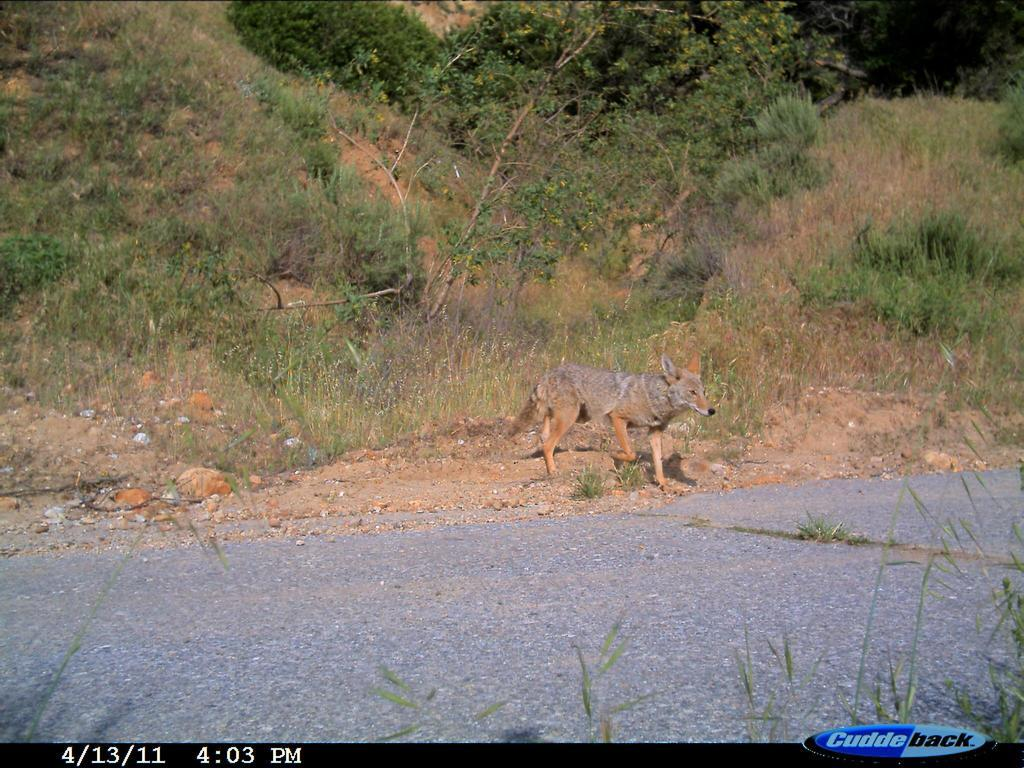coyote: (509, 347, 720, 496)
